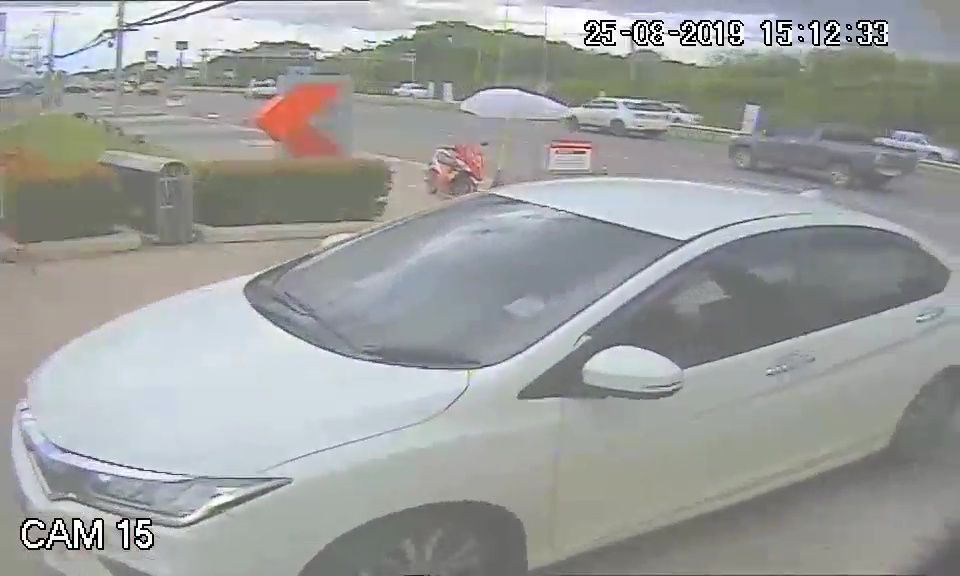sedan: (28, 175, 752, 565)
